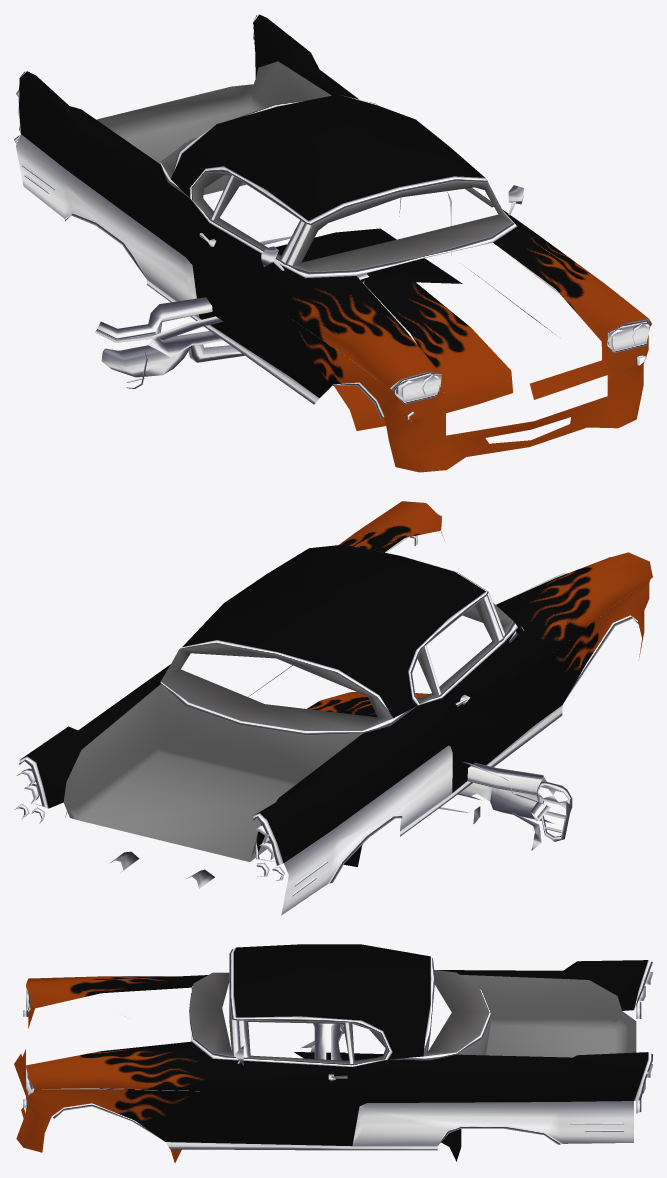
The model's file is car-MSCL_Car13.glb.
3 views of the same model, one above another, from view 1: azimuth 30°, elevation 25°; view 2: azimuth 150°, elevation 25°; view 3: azimuth 270°, elevation 25° (orthographic). The views are drawn at different scales.
Parts seen in each view (by area): view 1: MSCL_Car13; view 2: MSCL_Car13; view 3: MSCL_Car13.
Boxes of the visible parts, x1,y1,x2,y2 form: MSCL_Car13: (14, 14, 651, 472); MSCL_Car13: (14, 501, 652, 915); MSCL_Car13: (14, 944, 652, 1162).
Bounding box in the file's own units: 2.64 × 1.37 × 4.94.
Materials: 5 (5 with a texture image).
